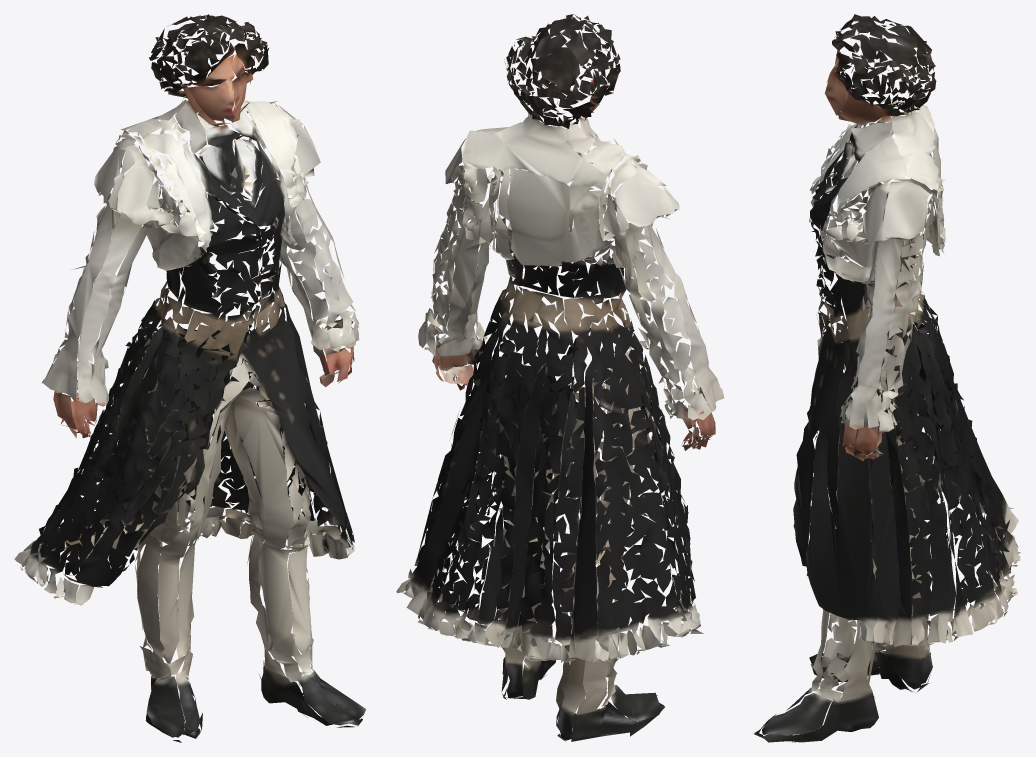
Rendered from char_actor_m.glb.
The picture shows the model from 3 angles, left to right: view 1: azimuth 30°, elevation 25°; view 2: azimuth 150°, elevation 25°; view 3: azimuth 270°, elevation 25°; orthographic projection. The views are drawn at different scales.
Visible parts, largest first — view 1: geometry_0; view 2: geometry_0; view 3: geometry_0.
Boxes of the visible parts, left/top/right/bottom form: geometry_0: left=14, top=14, right=366, bottom=742; geometry_0: left=396, top=14, right=724, bottom=741; geometry_0: left=753, top=14, right=1020, bottom=742.
Bounding box in the file's own units: 0.8407 × 1.81 × 0.6496.
1 material, 1 textured.
